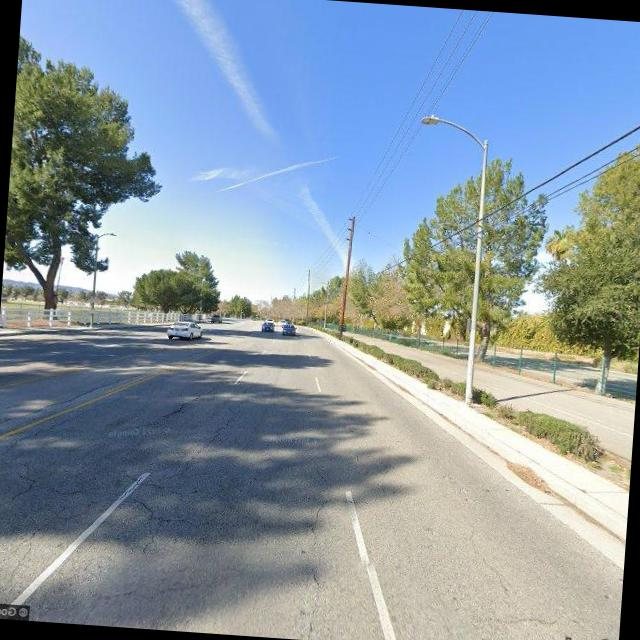crack: (0, 445, 215, 570)
pothole: (293, 494, 337, 640), (180, 408, 238, 474)
